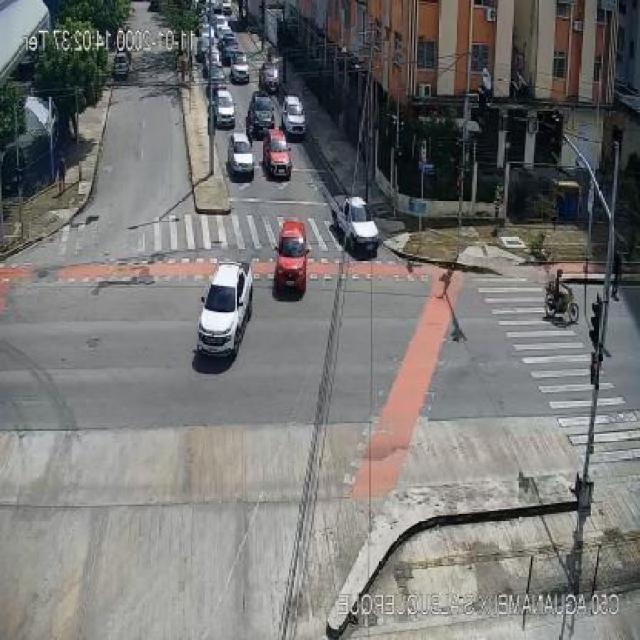Car: (274, 219, 310, 294), (262, 128, 292, 178), (248, 92, 278, 139), (227, 133, 255, 178), (281, 95, 307, 138), (212, 89, 237, 129), (206, 65, 228, 95), (229, 52, 250, 83), (260, 61, 280, 93), (221, 40, 241, 66), (203, 48, 222, 74), (196, 36, 214, 62), (112, 52, 130, 78)
Cycle: (544, 280, 580, 326)
Truck: (195, 262, 253, 358), (332, 196, 380, 257)
